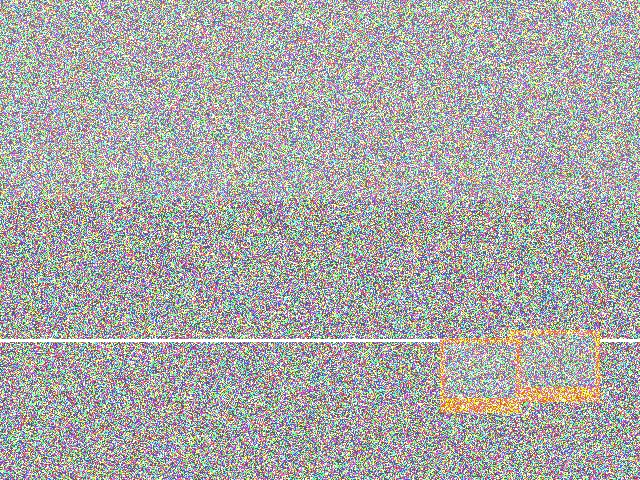car: (237, 368, 378, 456)
motorcycle: (144, 247, 271, 325)
truck: (506, 142, 609, 204)
